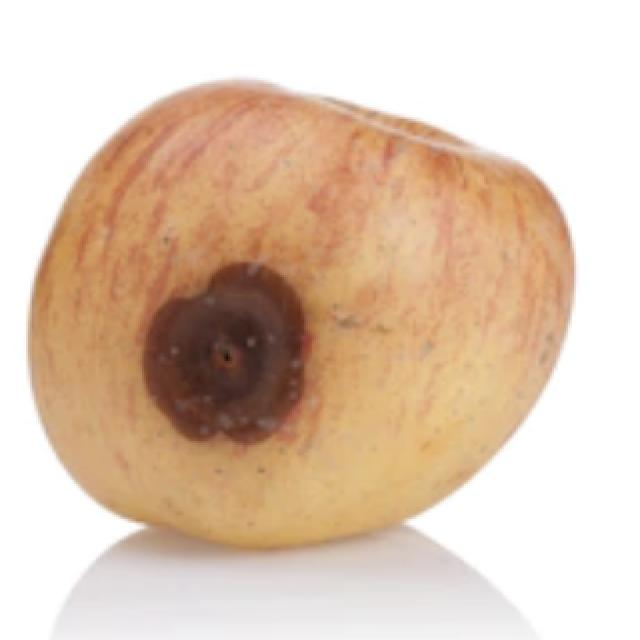rotten_apple: (26, 71, 580, 563)
